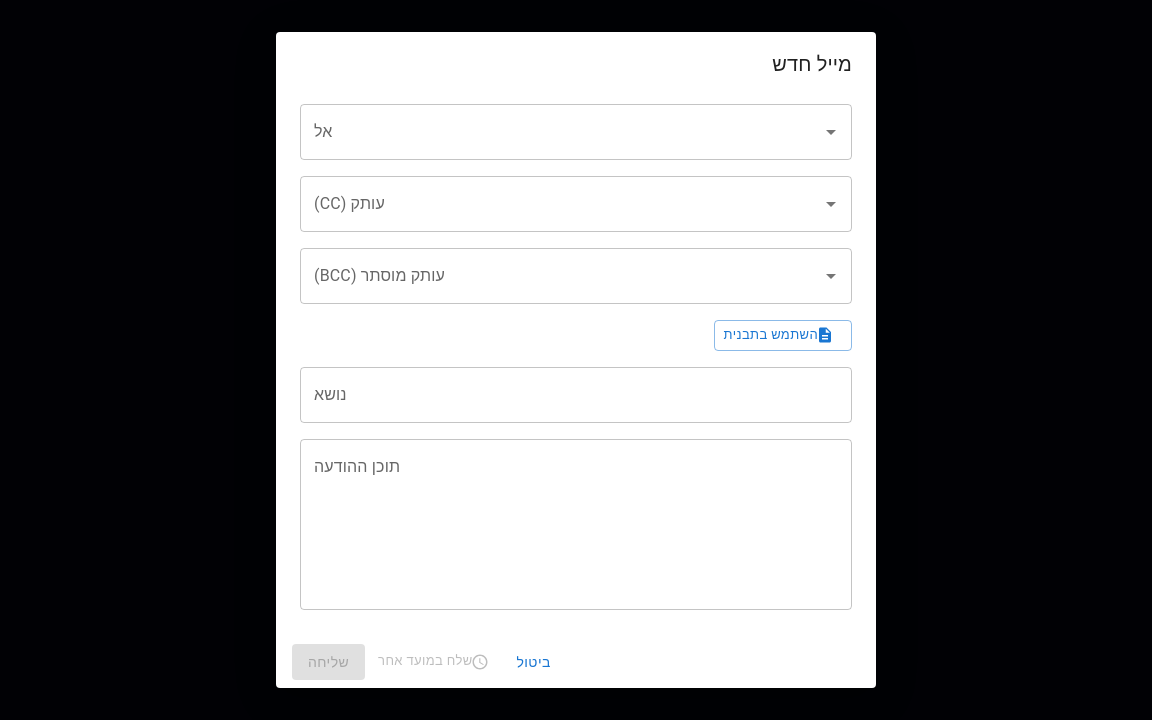
Scenario: EmailComposeModal › fills recipients, subject and body, enabling send
Click the dropdown labelled "אל".
click(561, 132)  # box [309,113,813,151]
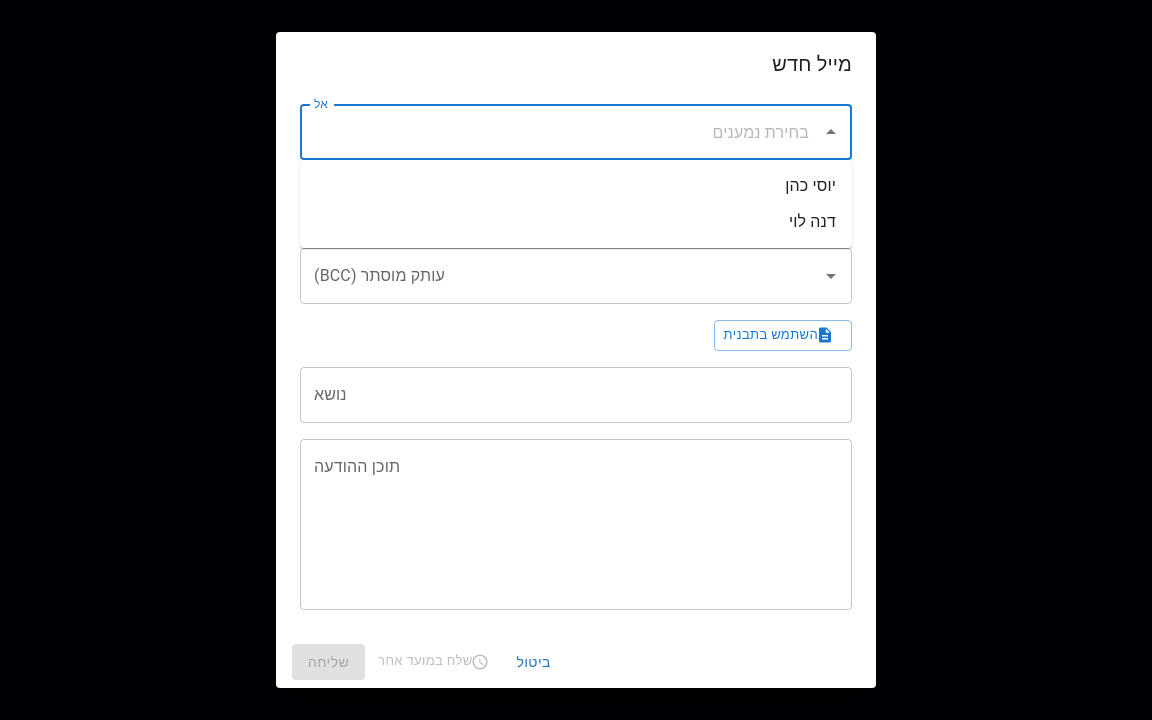
Click the option "יוסי כהן".
click(811, 186)  # box [785,176,836,195]
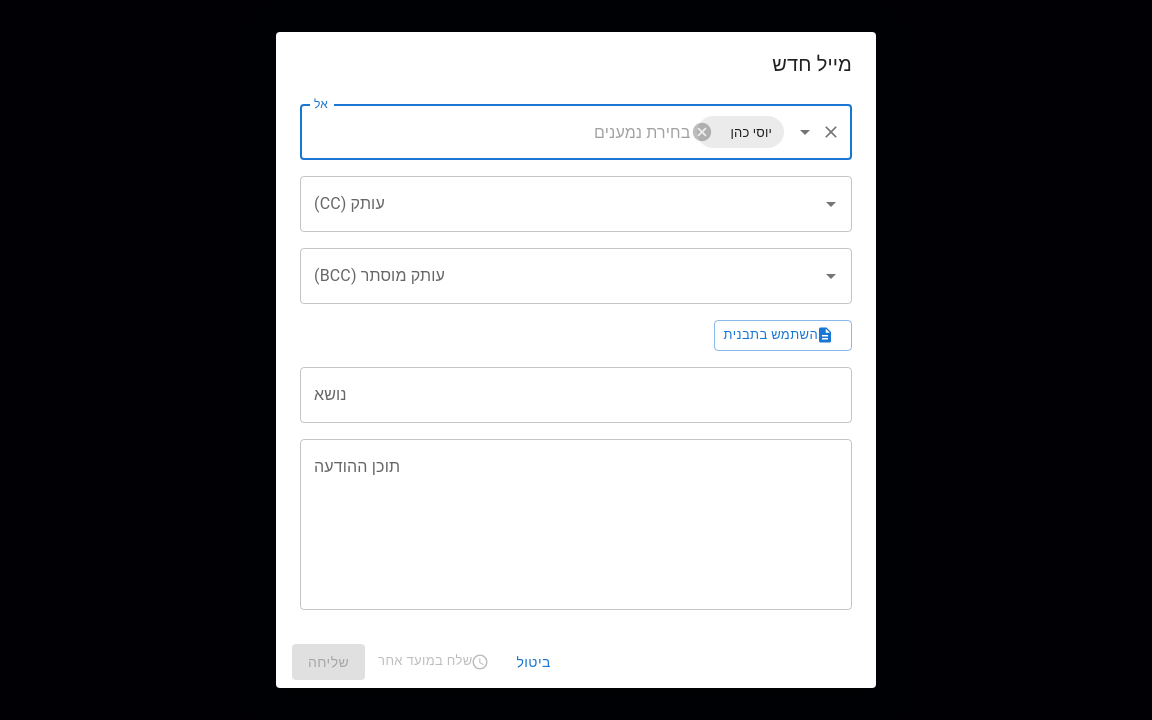
Type "עדכון סטטוס תביעה" into the field labelled "נושא".
click(576, 395); type("עדכון סטטוס תביעה")  # box [300,367,852,423]
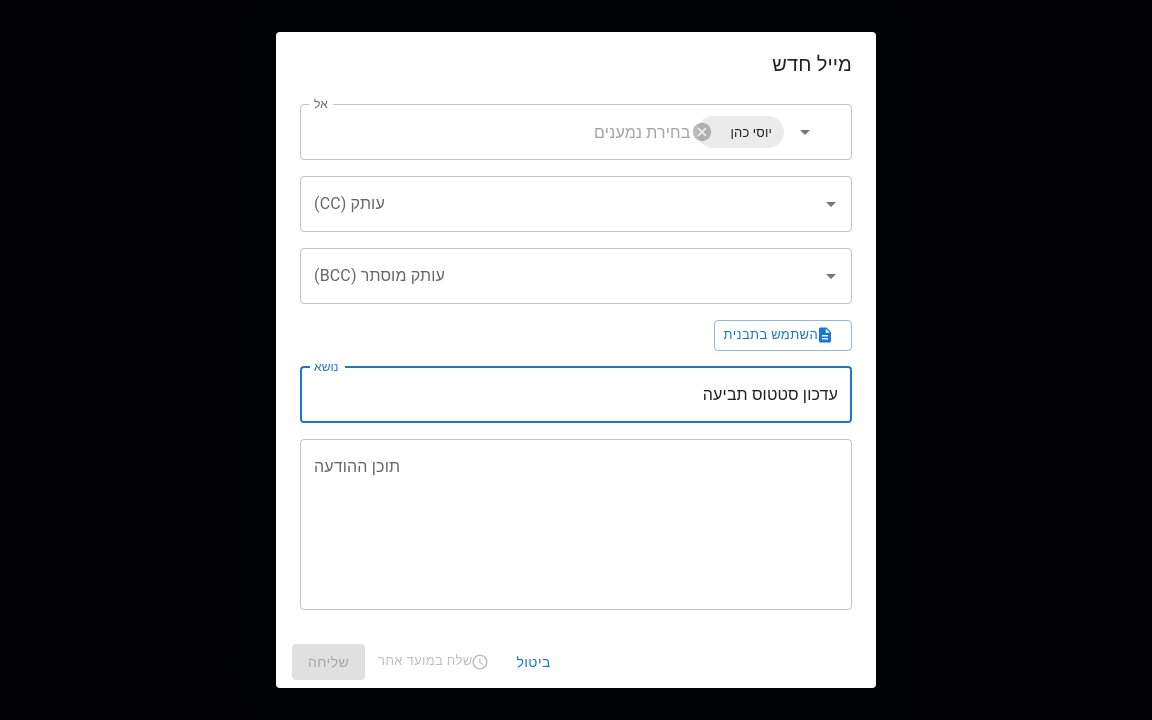
Type "שלום, זהו עדכון." into the text box labelled "תוכן ההודעה".
click(576, 524); type("שלום, זהו עדכון.")  # box [314,455,838,593]
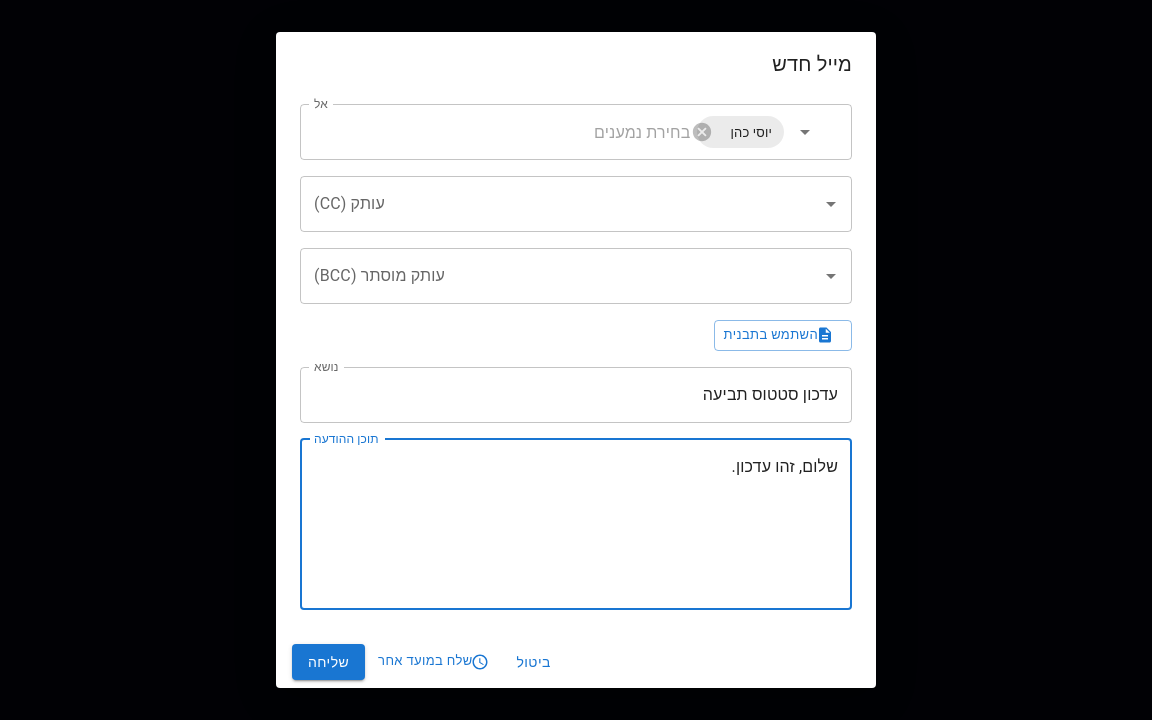
Expected: the text "יוסי כהן" is shown, [730,124,772,140]
Expected: the button "שליחה" is enabled, [292,644,365,680]
